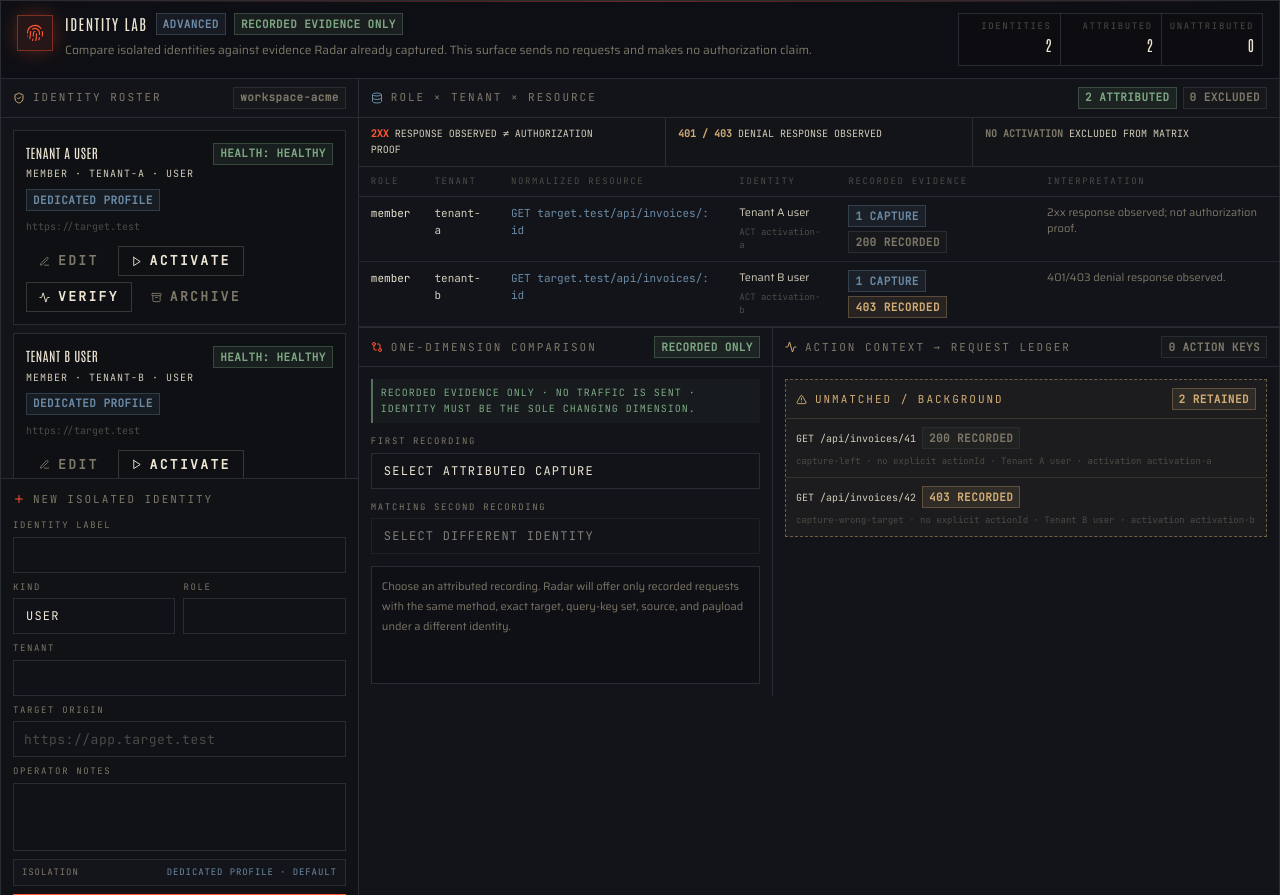
Test: IdentityLab › blocks a differential when no recorded request changes only identity
Expected: the text "Recorded evidence only · no traffic is sent" is shown, 381,386 -> 696,415
Select "capture-left · Tenant A user · GET target.test/api/invoices/:id · 200 RECORDED" in the dropdown named "First recorded request" at (565, 470), box 371,452 -> 760,488
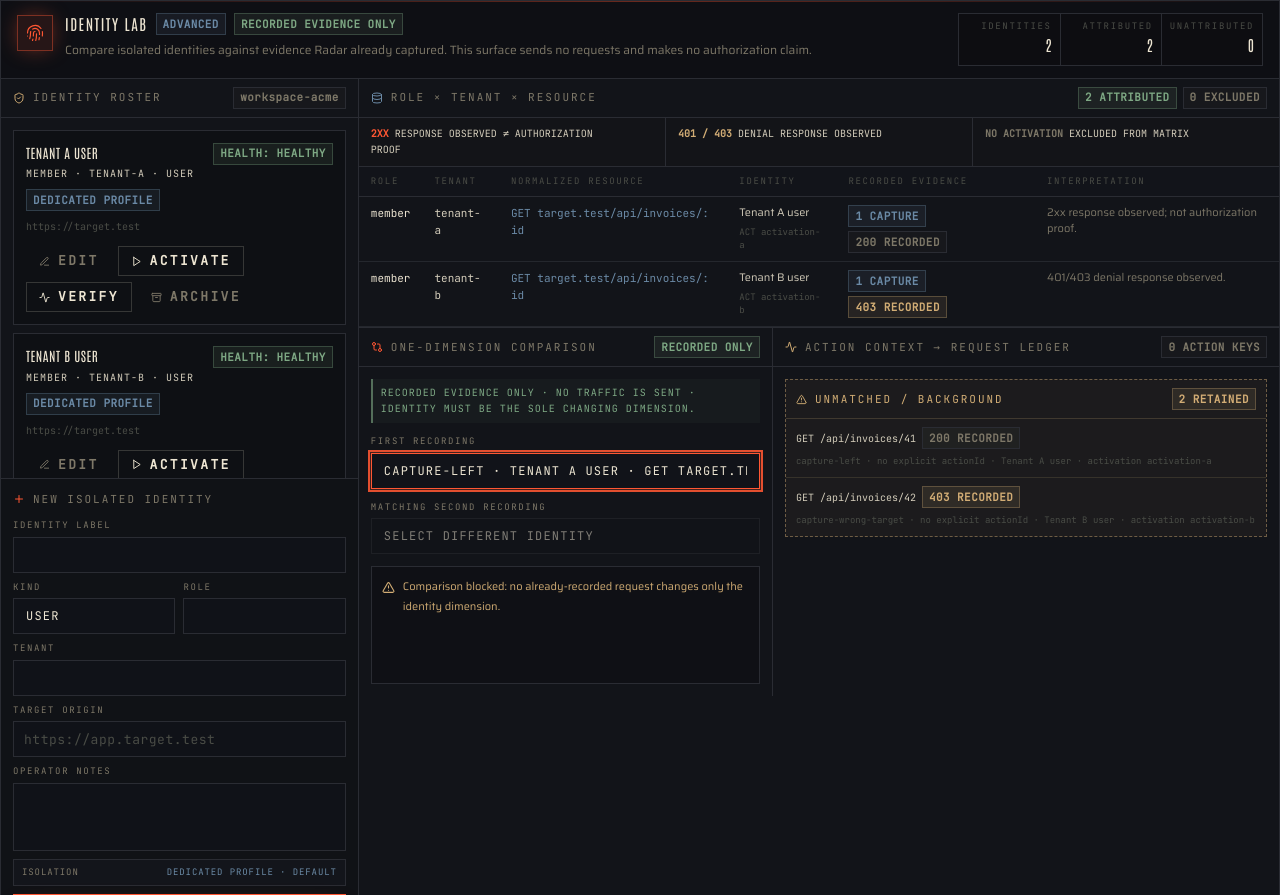
Expected: the dropdown named "Matching recorded request" is disabled, 371,518 -> 760,554
Expected: the element with test id "identityComparisonState" shows "Comparison blocked: no already-recorded request changes only the identity dimension.", 403,578 -> 743,615
